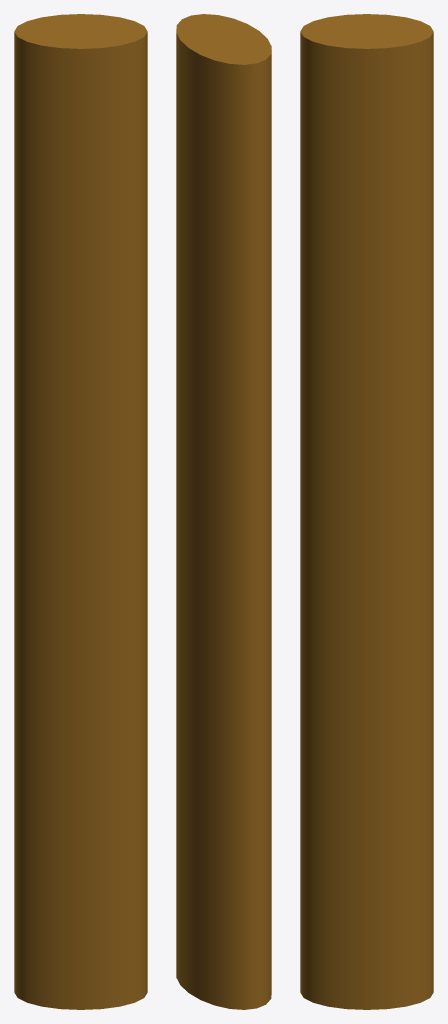
The model's file is Stalk02.fbx.
The picture shows the model from 3 angles, left to right: view 1: azimuth 90°, elevation 25°; view 2: azimuth 210°, elevation 25°; view 3: azimuth 270°, elevation 25°; orthographic projection.
Parts seen in each view (by area): view 1: polySurface106; view 2: polySurface106; view 3: polySurface106.
Boxes of the visible parts, x1,y1,x2,y2 form: polySurface106: (14,14,147,1009); polySurface106: (176,14,271,1009); polySurface106: (300,14,433,1009).
Bounding box in the file's own units: 0.0375 × 0.4809 × 0.0604.
